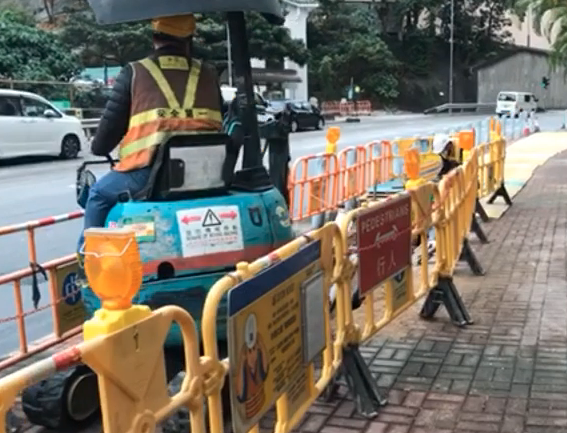Hard Hat: (149, 15, 195, 54)
Vest: (114, 36, 224, 174)
